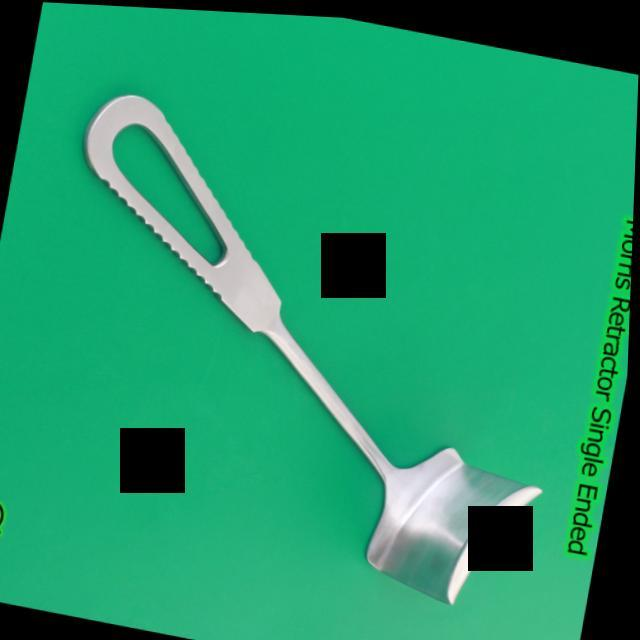Morris Retractor: (8, 68, 604, 616)
